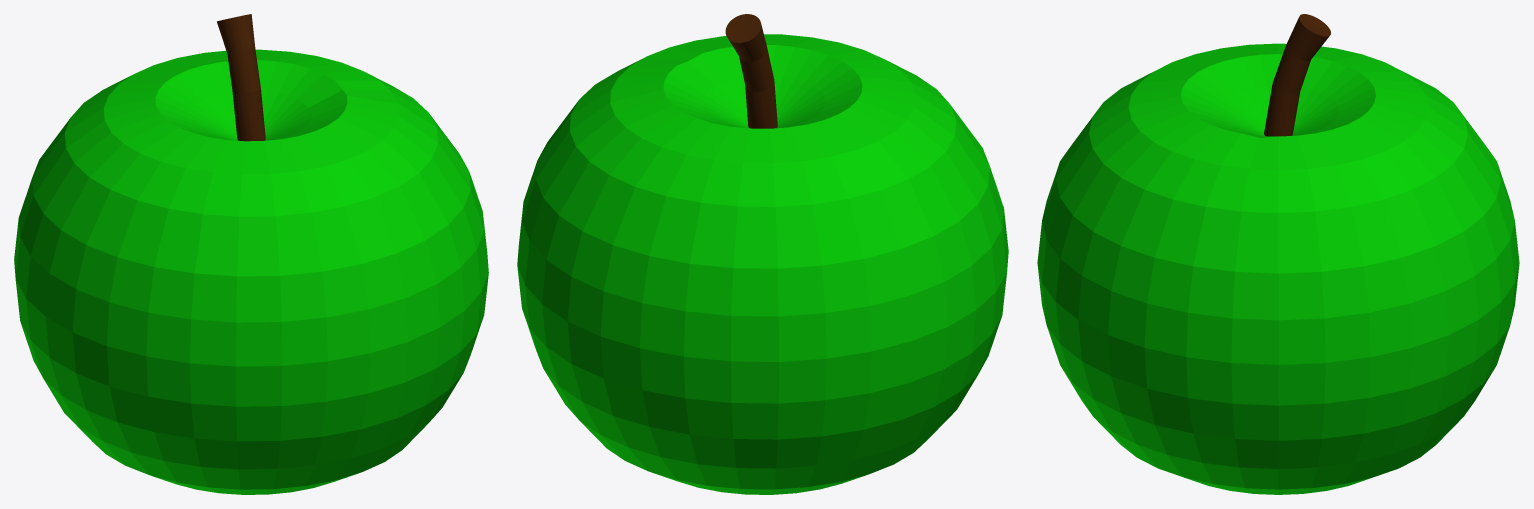
The model's file is GreenApple.fbx.
3 renders of one model, left to right at view 1: azimuth 30°, elevation 25°; view 2: azimuth 150°, elevation 25°; view 3: azimuth 270°, elevation 25°, orthographic. The views are drawn at different scales.
Parts seen in each view (by area): view 1: Сфера.001; view 2: Сфера.001; view 3: Сфера.001.
Boxes of the visible parts, x1,y1,x2,y2 form: Сфера.001: (14, 14, 488, 494); Сфера.001: (517, 14, 1008, 494); Сфера.001: (1037, 14, 1519, 494).
Size of the model in its own units: 200 by 199 by 200.
